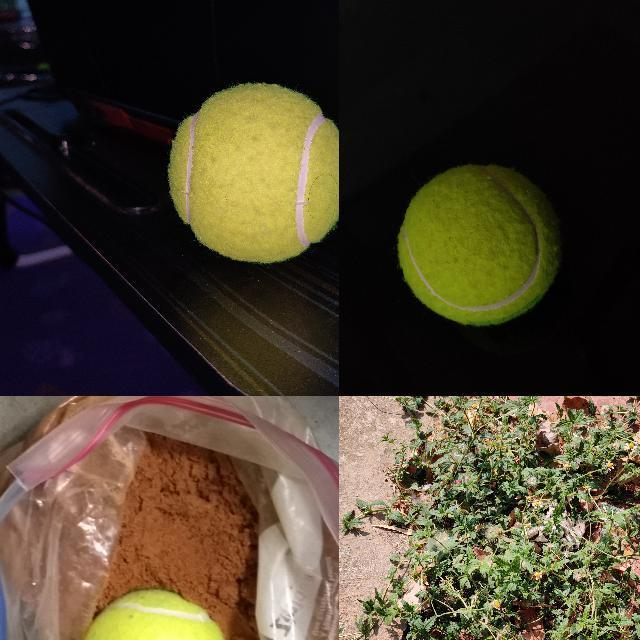tennis-ball: (166, 84, 338, 263), (398, 163, 563, 326), (79, 588, 230, 639)
